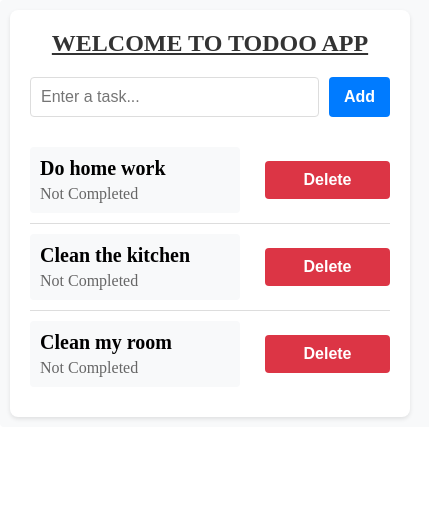
Scenario: A new todo can be added
In the field with placeholder "Enter a task...": (174, 97) 30,77 -> 319,117, type "Wash my shoes"
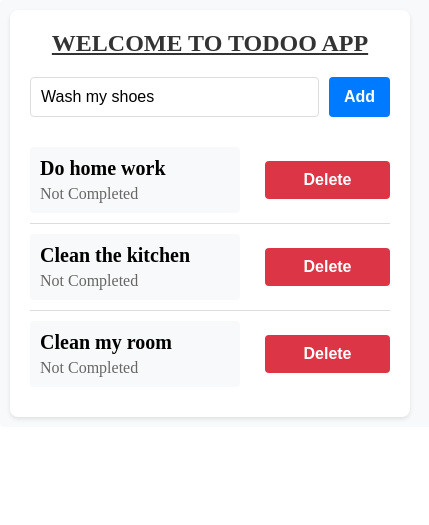
Click the button "Add": (359, 97) 329,77 -> 390,117
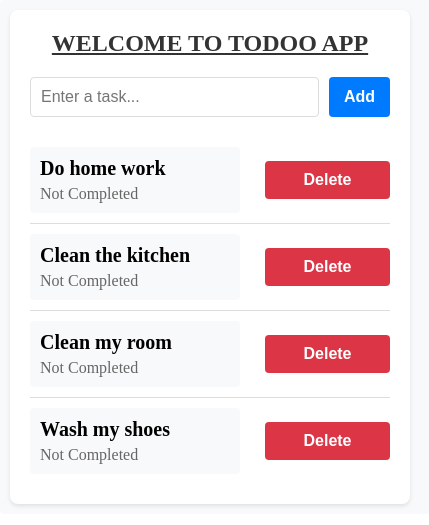
expect the heading "Wash my shoes" is shown: met, box 40,418 -> 170,440
expect the field with placeholder "Enter a task..." is empty: met, box 30,77 -> 319,117
